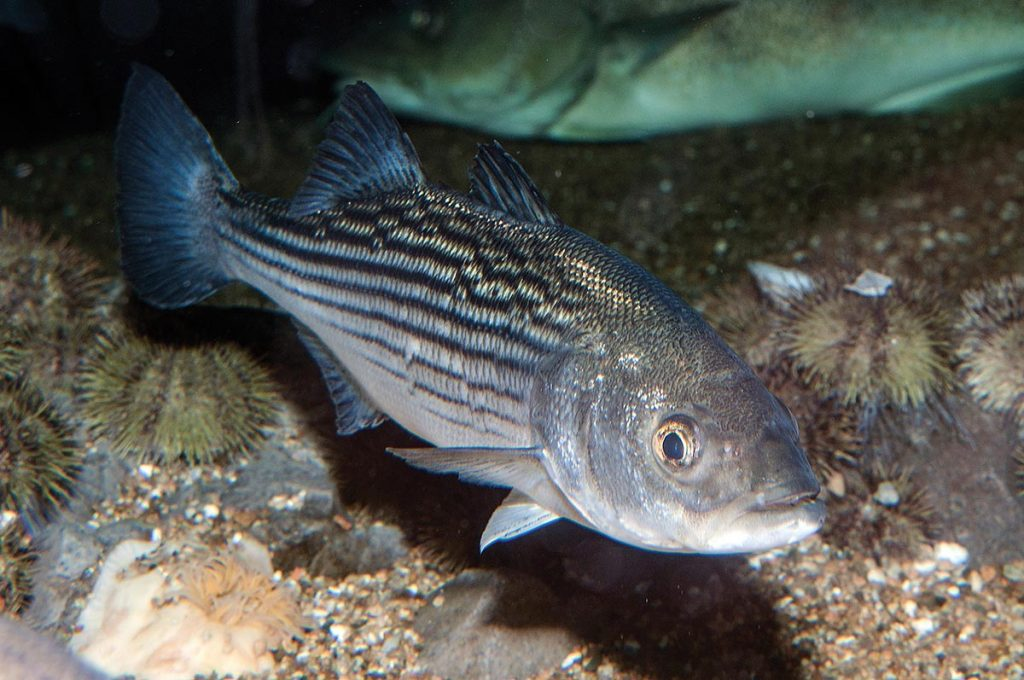Striped Bass: (60, 65, 854, 603)
